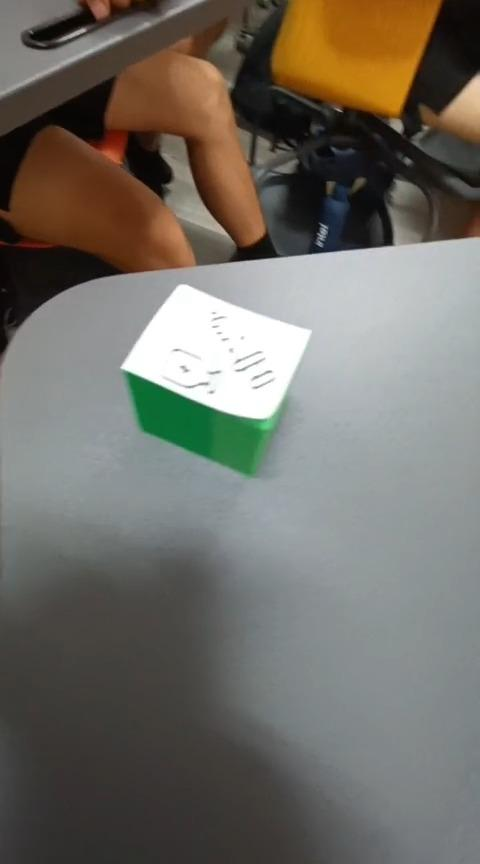antiseptic cream: (119, 281, 312, 478)
